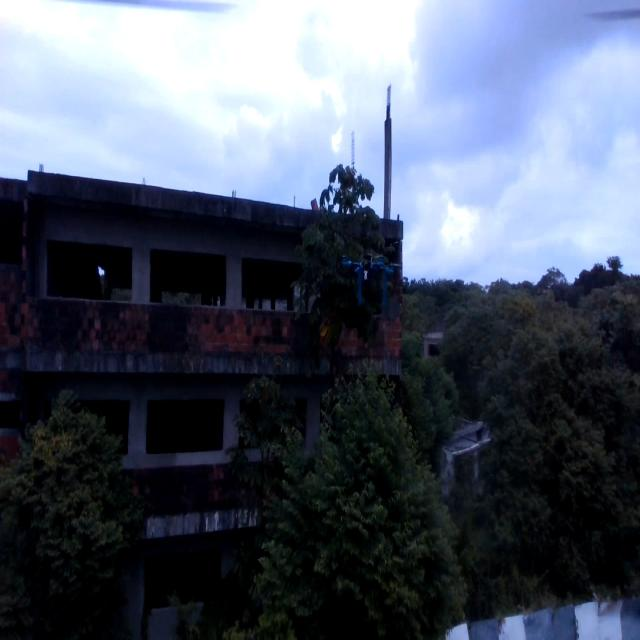-uav-: (338, 242, 409, 314)
